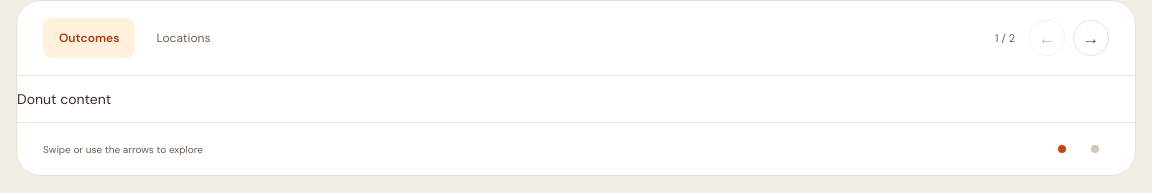
Test case: switches the whole report panel with buttons and keyboard without wrapping
The image size is (1152, 193).
Expected: the button named "Previous report view" is disabled, [1029,20,1065,56]
Click the button named "Next report view".
click(1091, 38)  # box [1073,20,1109,56]
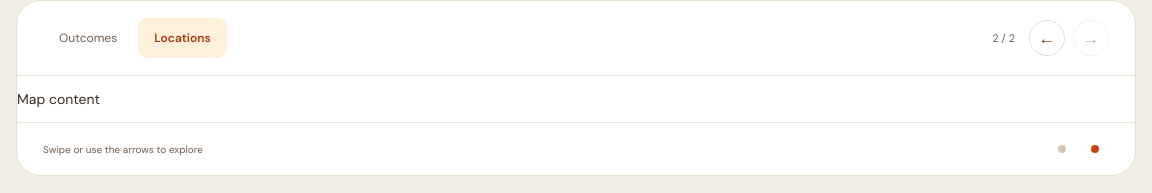
Press ArrowLeft in the element named "Programme report views"
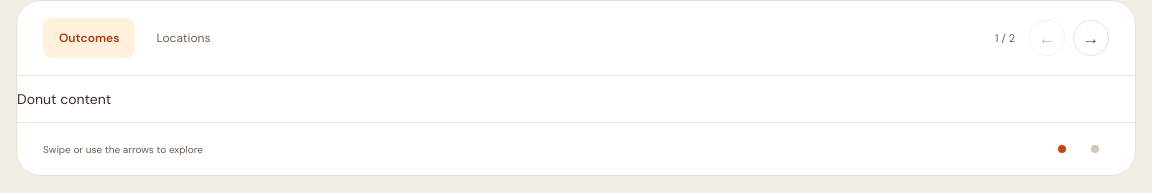
Result: the element named "1 of 2: Outcomes" is shown at [17,90,111,108]
